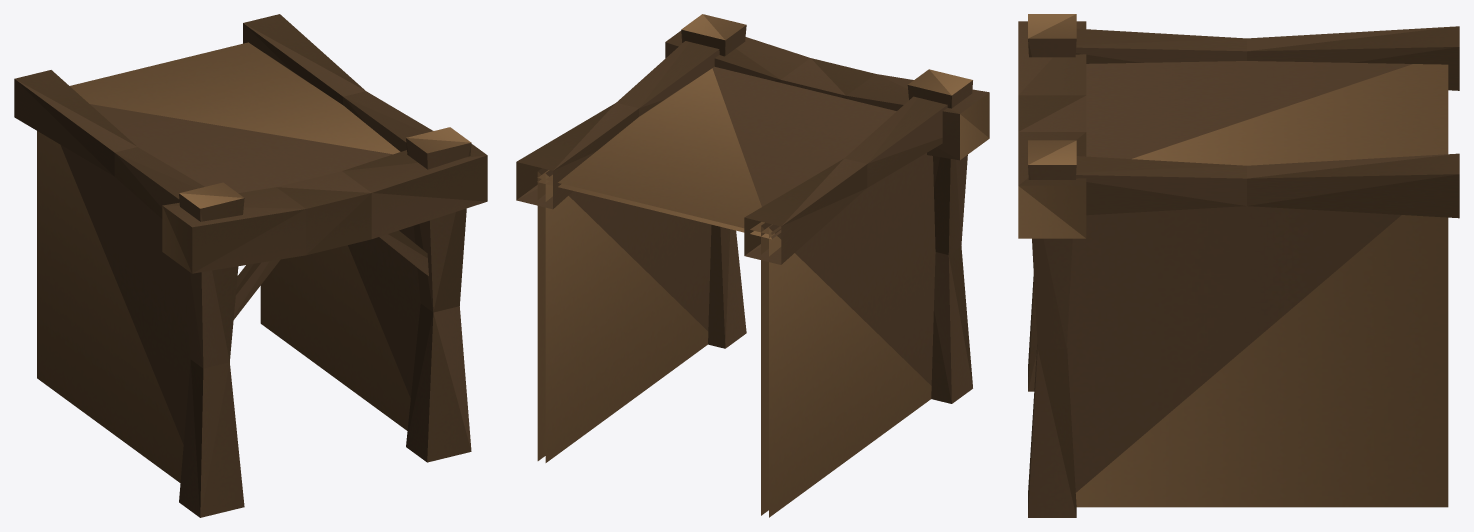
The model's file is Wagon_Gate_1B.fbx.
3 views of the same model, side by side, from view 1: azimuth 30°, elevation 25°; view 2: azimuth 150°, elevation 25°; view 3: azimuth 270°, elevation 25° (orthographic). The views are drawn at different scales.
Visible parts, largest first — view 1: polySurface1080; view 2: polySurface1080; view 3: polySurface1080.
Boxes of the visible parts, bbox=[...] form: polySurface1080: bbox=[14, 14, 487, 517]; polySurface1080: bbox=[516, 14, 989, 517]; polySurface1080: bbox=[1018, 14, 1459, 517].
Bounding box in the file's own units: 400 × 400 × 454.
Materials: 1 (1 with a texture image).
